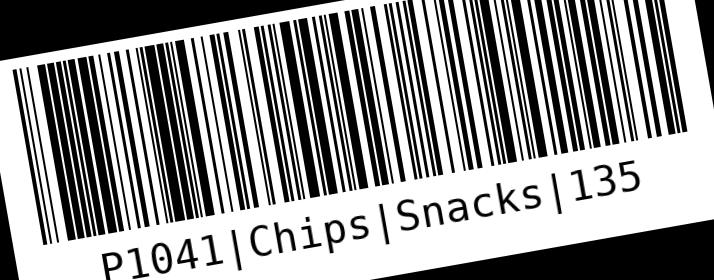milk: (5, 0, 713, 279)
